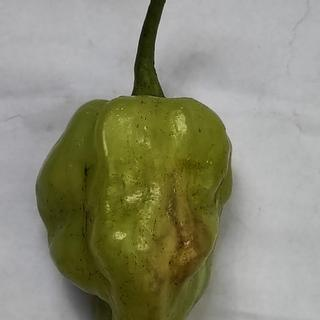Defect: (159, 196, 211, 300), (72, 158, 98, 254)
